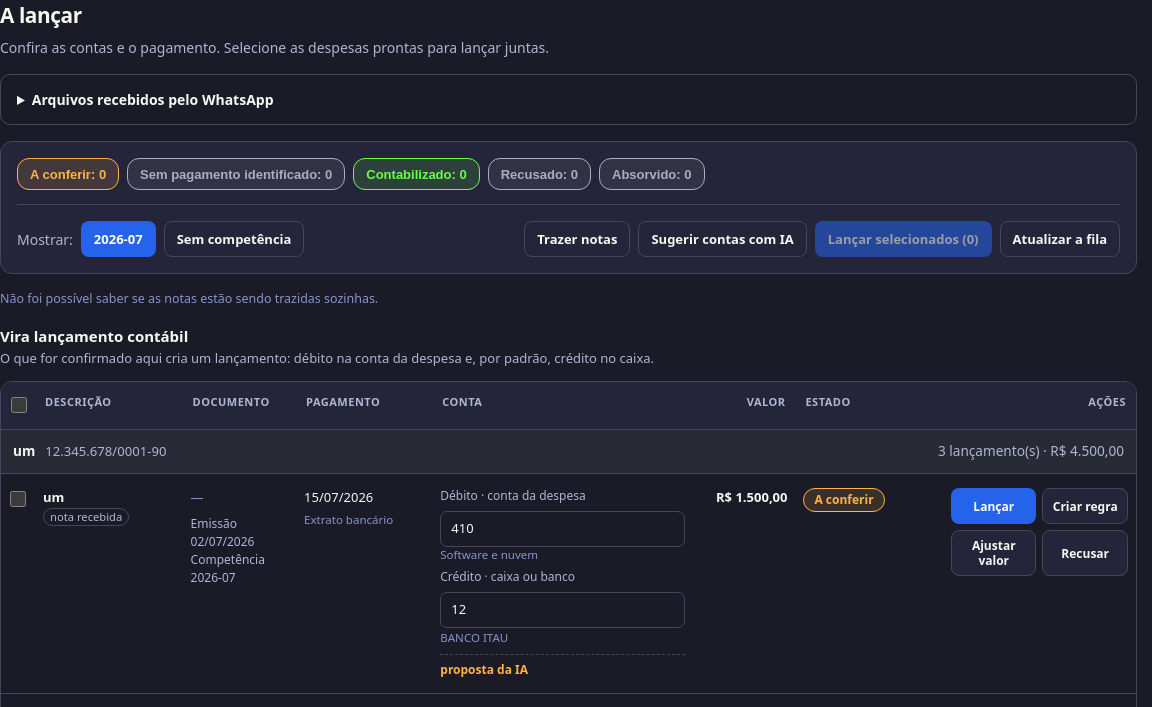
Test case: seleção e lançamento em lote › selecionar todas exclui mês fechado e informa resultado parcial sem reenviar sucessos
Check: the checkbox named "Selecionar um" is enabled, box x1=10 y1=491 x2=26 y2=507
Step 1. Click the checkbox named "Selecionar todas as linhas prontas desta página" → {"x": 19, "y": 405}, box x1=11 y1=397 x2=27 y2=413
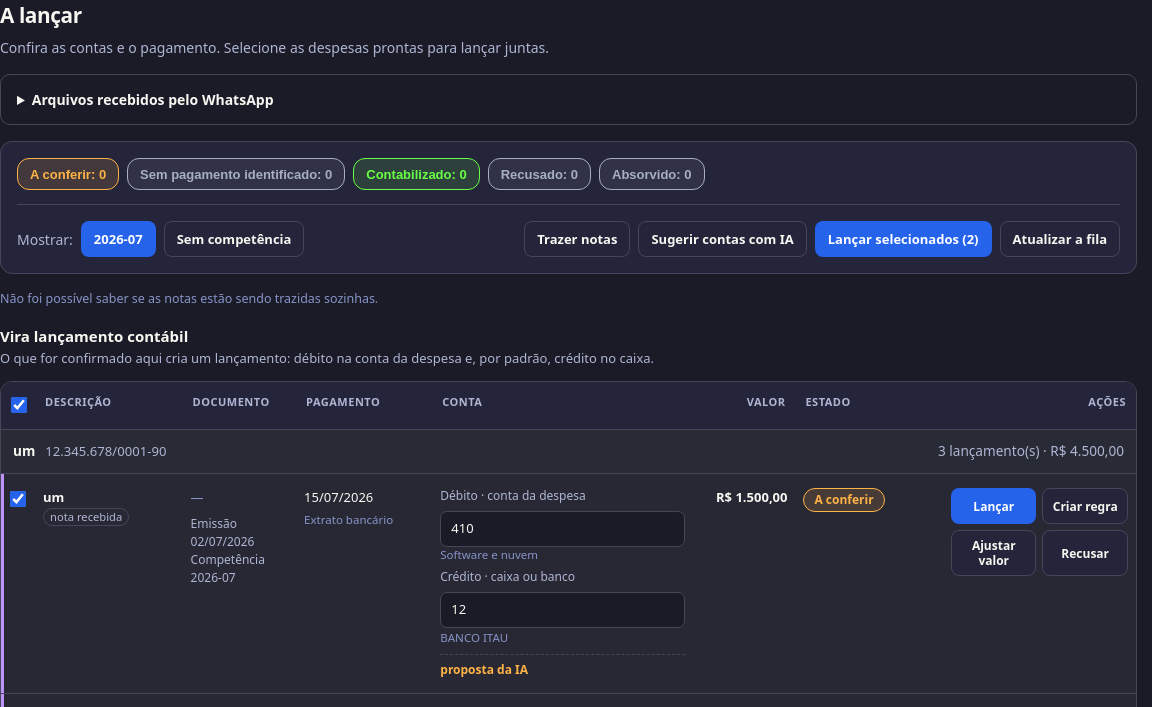
Check: the button "Lançar selecionados (2)" is enabled
Step 2. Click the button "Lançar selecionados (2)" → {"x": 903, "y": 239}, box x1=815 y1=221 x2=992 y2=257
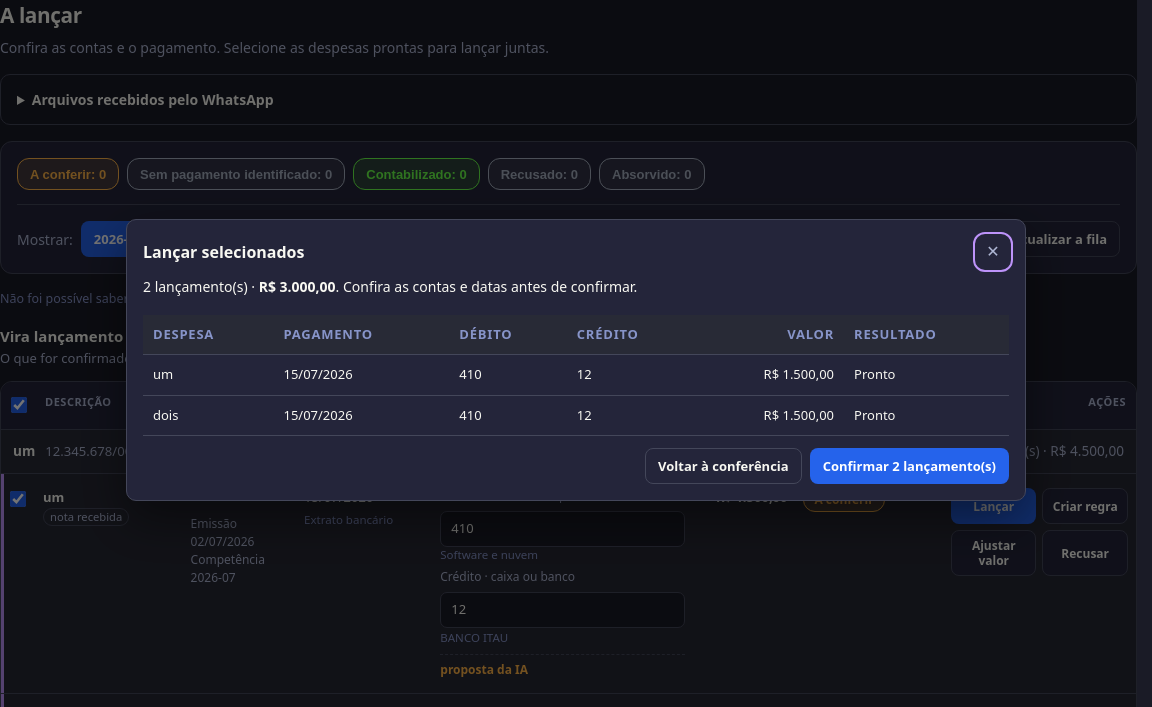
Step 3. Click the button "Confirmar 2 lançamento(s)" → {"x": 909, "y": 466}, box x1=810 y1=448 x2=1009 y2=484
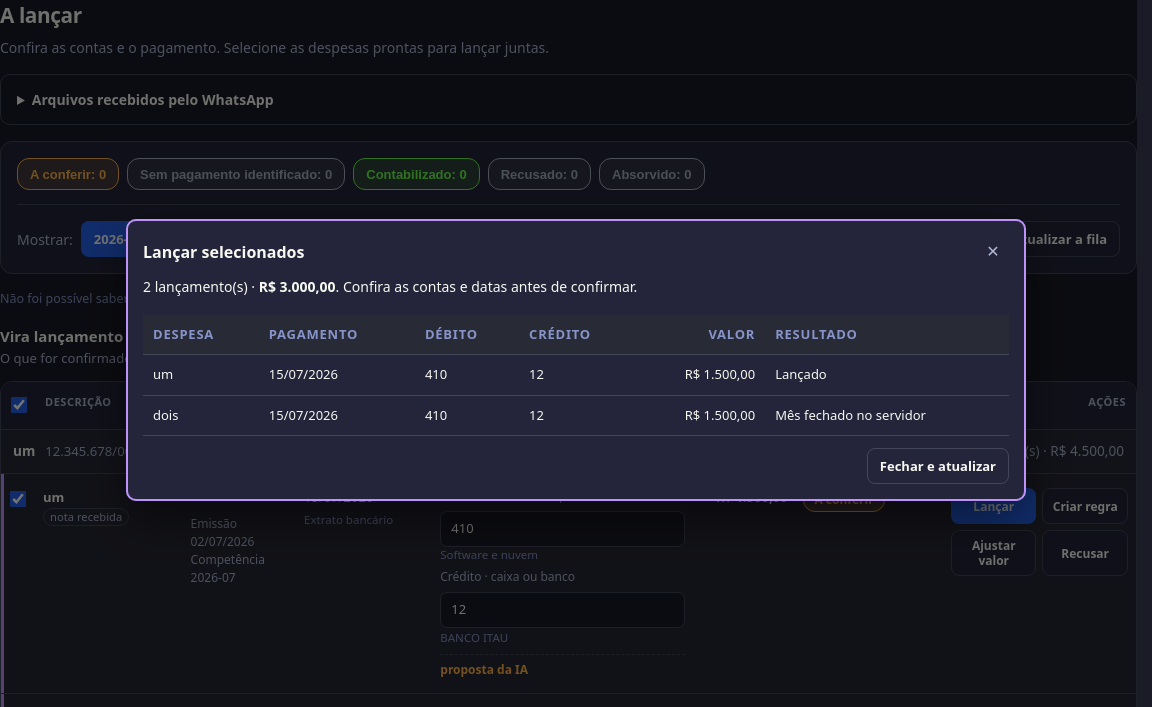
Check: the text "Mês fechado no servidor" is shown, box x1=765 y1=395 x2=1009 y2=436
Check: the text "Lançado" is shown, box x1=765 y1=355 x2=1009 y2=395
